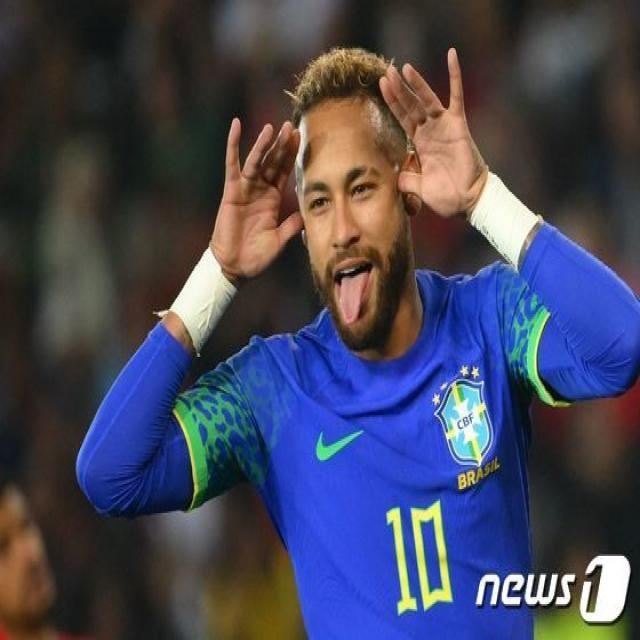neymar: (290, 62, 421, 348)
